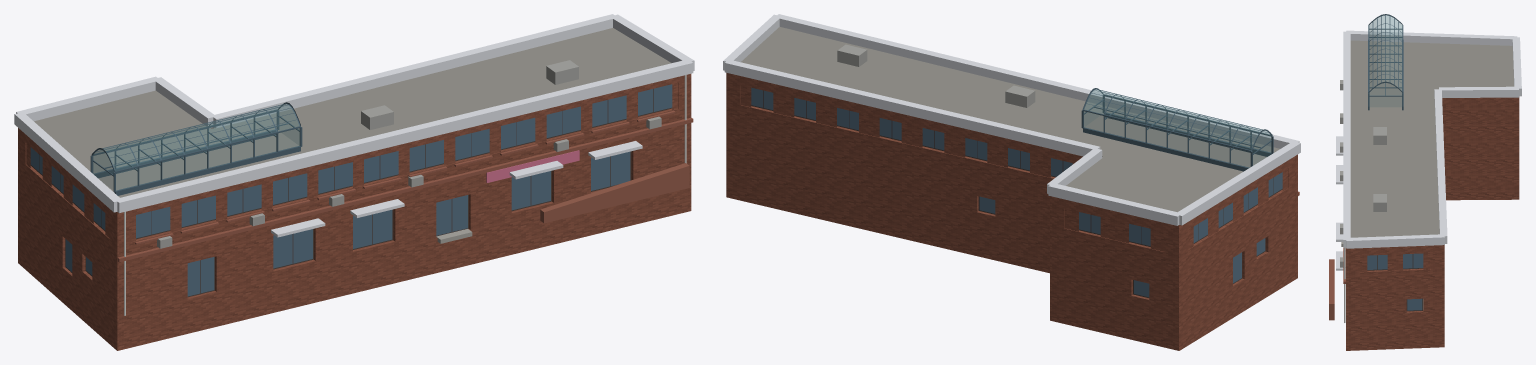
3 renders of one model, left to right at view 1: azimuth 30°, elevation 25°; view 2: azimuth 150°, elevation 25°; view 3: azimuth 270°, elevation 25°, orthographic. The views are drawn at different scales.
Visible parts, largest first — view 1: osm759074772__brick-wall, osm759074772__roof, osm759074772__white-coping, osm759074772__glass, osm759074772__teal-glass, osm759074772__teal-frame, osm759074772__brick-band, osm759074772__ramp-brick-wall, osm759074772__ac, osm759074772__door-glass, osm759074772__frame, osm759074772__sign-pink; view 2: osm759074772__brick-wall, osm759074772__roof, osm759074772__white-coping, osm759074772__teal-glass, osm759074772__glass, osm759074772__teal-frame, osm759074772__ac, osm759074772__frame; view 3: osm759074772__roof, osm759074772__brick-wall, osm759074772__white-coping, osm759074772__teal-glass, osm759074772__teal-frame, osm759074772__glass, osm759074772__ac, osm759074772__ramp-brick-wall.
Boxes of the visible parts, x1,y1,x2,y2 form: osm759074772__brick-wall: [18, 74, 691, 350]; osm759074772__roof: [34, 28, 671, 197]; osm759074772__white-coping: [14, 14, 694, 237]; osm759074772__glass: [30, 84, 672, 275]; osm759074772__teal-glass: [93, 104, 299, 190]; osm759074772__teal-frame: [90, 102, 302, 195]; osm759074772__brick-band: [117, 110, 693, 262]; osm759074772__ramp-brick-wall: [540, 163, 689, 223]; osm759074772__ac: [157, 60, 661, 248]; osm759074772__door-glass: [65, 195, 467, 296]; osm759074772__frame: [30, 88, 672, 297]; osm759074772__sign-pink: [486, 150, 579, 182]; osm759074772__brick-wall: [726, 72, 1297, 350]; osm759074772__roof: [741, 27, 1279, 212]; osm759074772__white-coping: [723, 14, 1300, 225]; osm759074772__teal-glass: [1084, 90, 1271, 167]; osm759074772__glass: [751, 87, 1282, 297]; osm759074772__teal-frame: [1081, 88, 1273, 171]; osm759074772__ac: [837, 44, 1035, 107]; osm759074772__frame: [751, 90, 1282, 297]; osm759074772__roof: [1350, 40, 1514, 237]; osm759074772__brick-wall: [1346, 96, 1519, 350]; osm759074772__white-coping: [1336, 30, 1521, 270]; osm759074772__teal-glass: [1369, 16, 1401, 106]; osm759074772__teal-frame: [1368, 14, 1403, 110]; osm759074772__glass: [1367, 253, 1423, 310]; osm759074772__ac: [1340, 80, 1386, 267]; osm759074772__ramp-brick-wall: [1329, 259, 1334, 320].
Bounding box in the file's own units: 43.9 × 12.97 × 17.
Materials: 15 (1 with a texture image).
